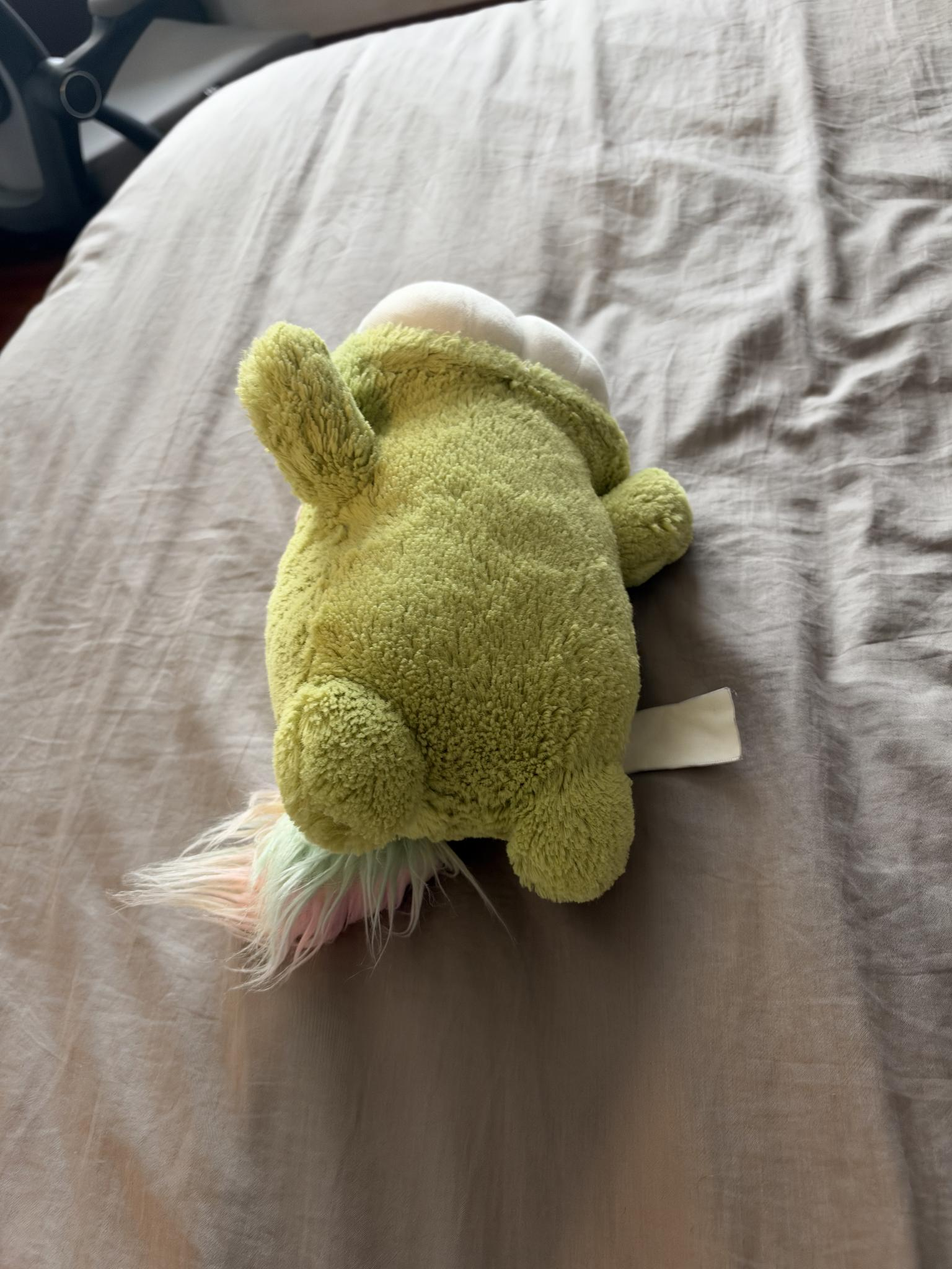peluche_martin: (109, 278, 693, 989)
